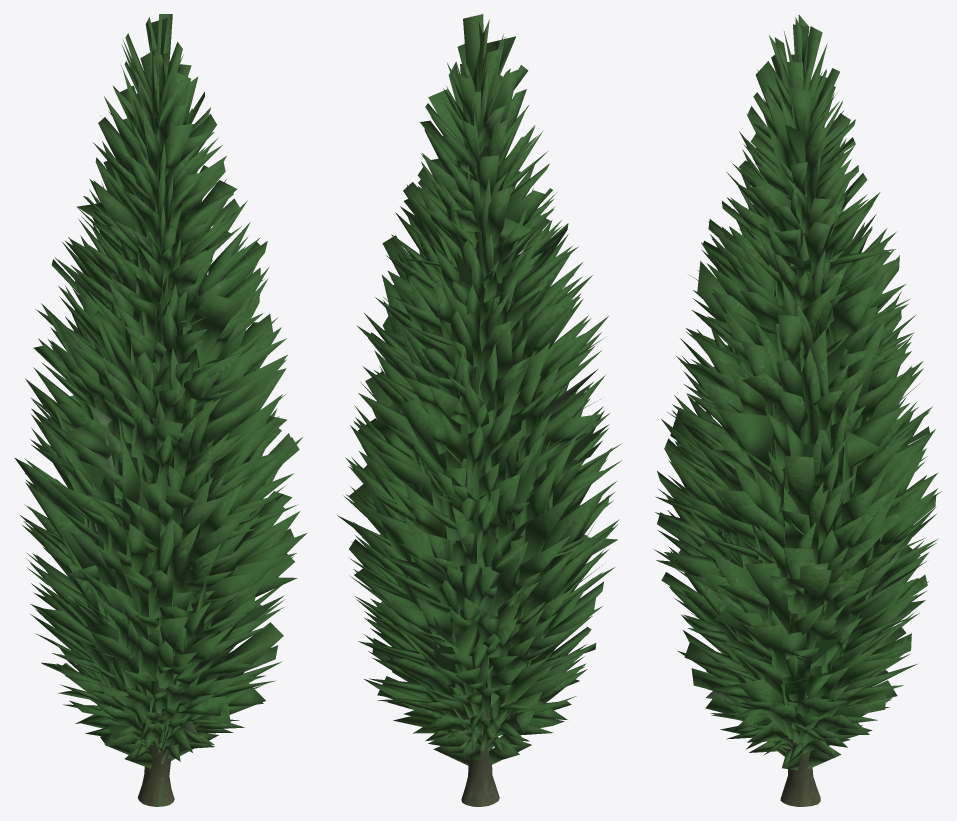
File: arborvitae.glb
The picture shows the model from 3 angles, left to right: view 1: azimuth 30°, elevation 25°; view 2: azimuth 150°, elevation 25°; view 3: azimuth 270°, elevation 25°; orthographic projection.
Size of the model in its own units: 0.3047 by 0.9497 by 0.3188.
1 material, 1 textured.
